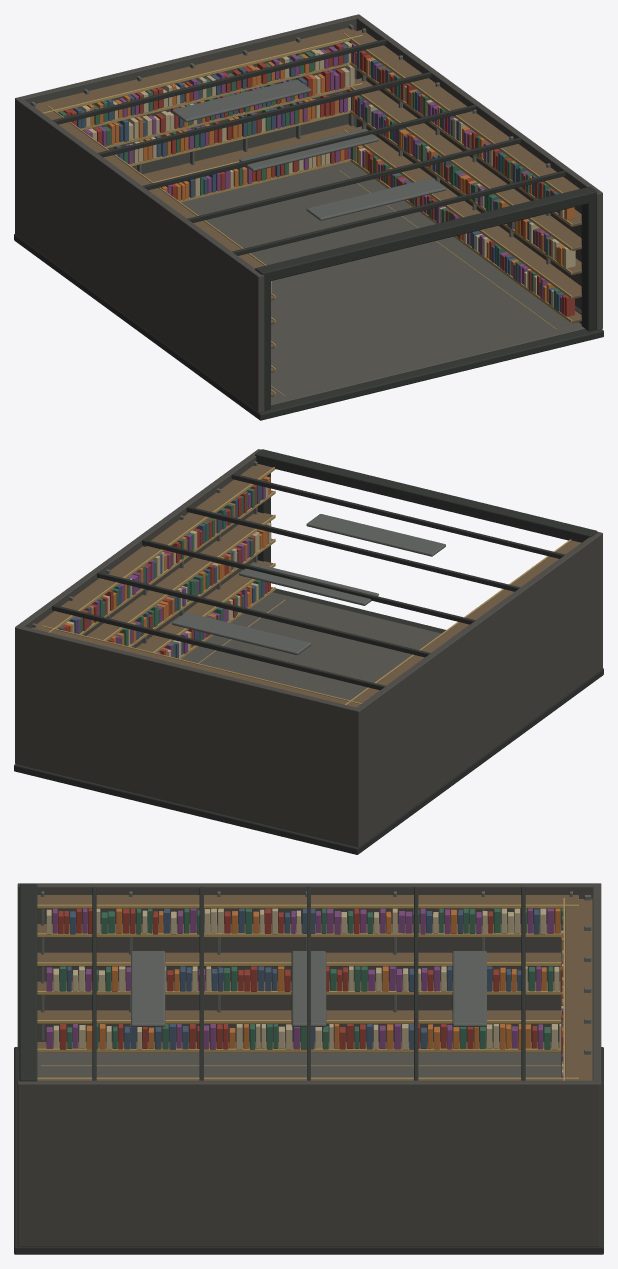
Rendered from firstroll-closet.glb.
3 renders of one model, top to bottom at view 1: azimuth 30°, elevation 25°; view 2: azimuth 150°, elevation 25°; view 3: azimuth 270°, elevation 25°, orthographic. The views are drawn at different scales.
Visible parts, largest first — view 1: Archive carpet, Left wall, Back wall, Floor slab, Right wall, Entrance lintel, Back shelf 6, Right shelf 6, Right shelf 4, Right shelf 2, Ceiling rib.003, Ceiling rib.004 (+20 smaller); view 2: Back wall, Left wall, Archive carpet, Entrance lintel, Floor slab, Right wall, Right shelf 6, Right shelf 4, Ceiling rib, Ceiling rib.001, Ceiling rib.003, Ceiling rib.004 (+11 smaller); view 3: Right wall, Left wall, Archive carpet, Floor slab, Left shelf 6, Back shelf 6, Left shelf 4, Left shelf 2, Entrance lintel, Ceiling light trim, Ceiling light trim.002, Left shelf brass rail 6 (+18 smaller).
Boxes of the visible parts, x1,y1,x2,y2 form: Archive carpet: (181,161,584,405); Left wall: (15,97,264,412); Back wall: (15,14,360,174); Floor slab: (14,234,603,420); Right wall: (355,14,602,330); Entrance lintel: (264,188,592,281); Back shelf 6: (35,27,360,112); Right shelf 6: (346,30,579,192); Right shelf 4: (352,78,581,250); Right shelf 2: (348,126,581,299); Ceiling rib.003: (97,72,431,157); Ceiling rib.004: (52,39,386,124); Back wall: (15,625,360,847); Left wall: (356,531,602,846); Archive carpet: (181,592,441,700); Entrance lintel: (259,451,588,542); Floor slab: (14,588,603,854); Right wall: (15,449,260,647); Right shelf 6: (31,464,272,629); Right shelf 4: (87,512,273,639); Ceiling rib: (231,473,565,558); Ceiling rib.001: (186,506,520,591); Ceiling rib.003: (97,572,430,657); Ceiling rib.004: (52,605,385,690); Right wall: (17,1080,599,1246); Left wall: (17,883,598,1049); Archive carpet: (37,1052,561,1077); Floor slab: (14,1047,603,1254); Left shelf 6: (37,895,578,908); Back shelf 6: (565,899,592,1080); Left shelf 4: (37,952,561,966); Left shelf 2: (37,1010,561,1023); Entrance lintel: (19,888,37,1074); Ceiling light trim: (131,951,165,1026); Ceiling light trim.002: (452,951,486,1026); Left shelf brass rail 6: (37,904,578,908).
Bounding box in the file's own units: 12.42 × 5 × 15.4.
